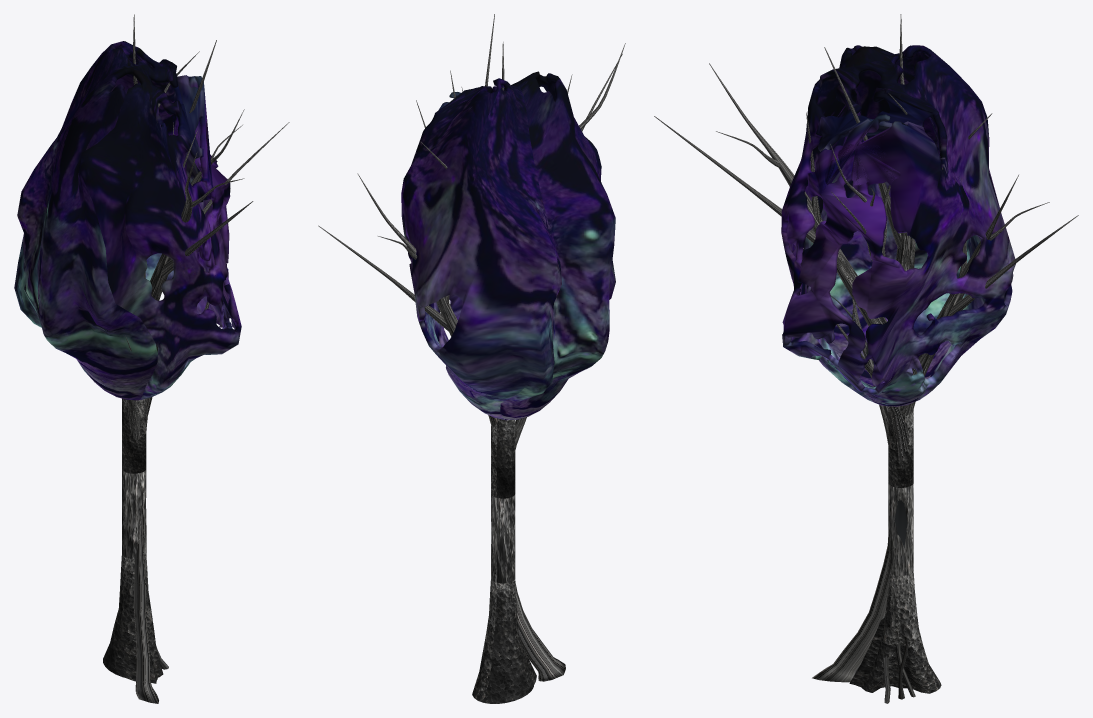
File: Tree_05.fbx
The picture shows the model from 3 angles, left to right: view 1: azimuth 30°, elevation 25°; view 2: azimuth 150°, elevation 25°; view 3: azimuth 270°, elevation 25°; orthographic projection. The views are drawn at different scales.
Parts seen in each view (by area): view 1: Icosphere, Tree_Bottom_01.002; view 2: Icosphere, Tree_Bottom_01.002; view 3: Icosphere, Tree_Bottom_01.002.
Boxes of the visible parts, x1,y1,x2,y2 form: Icosphere: [14, 41, 241, 400]; Tree_Bottom_01.002: [103, 14, 289, 703]; Icosphere: [401, 71, 615, 420]; Tree_Bottom_01.002: [318, 14, 625, 703]; Icosphere: [781, 45, 1015, 406]; Tree_Bottom_01.002: [654, 14, 1078, 703].
Bounding box in the file's own units: 4.15 × 11.8 × 6.72.
